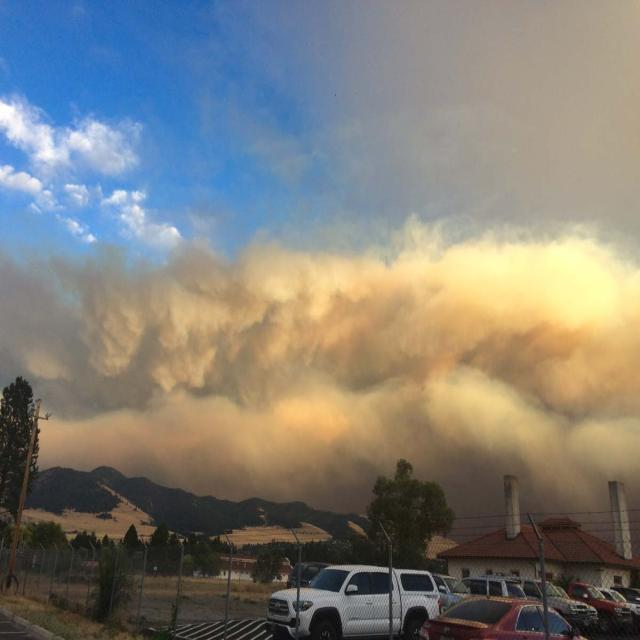Smoke: (11, 255, 640, 487)
